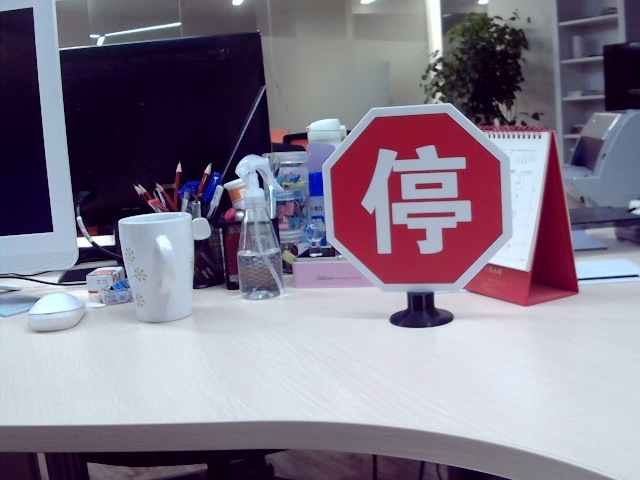stop: (356, 142, 474, 257)
